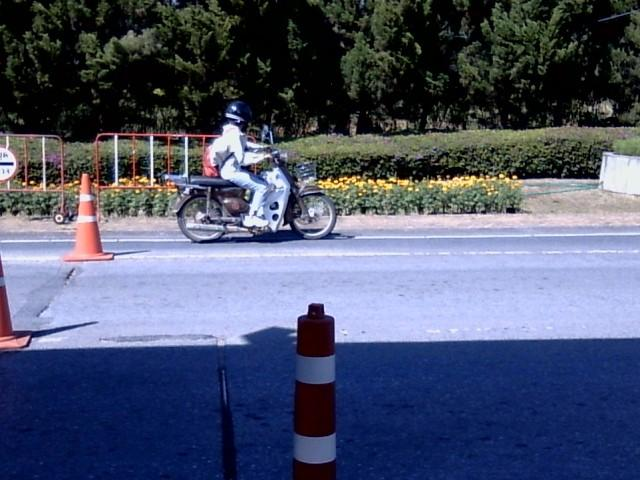helmet: (224, 99, 252, 127)
motor: (162, 150, 336, 242)
person: (210, 100, 270, 225)
